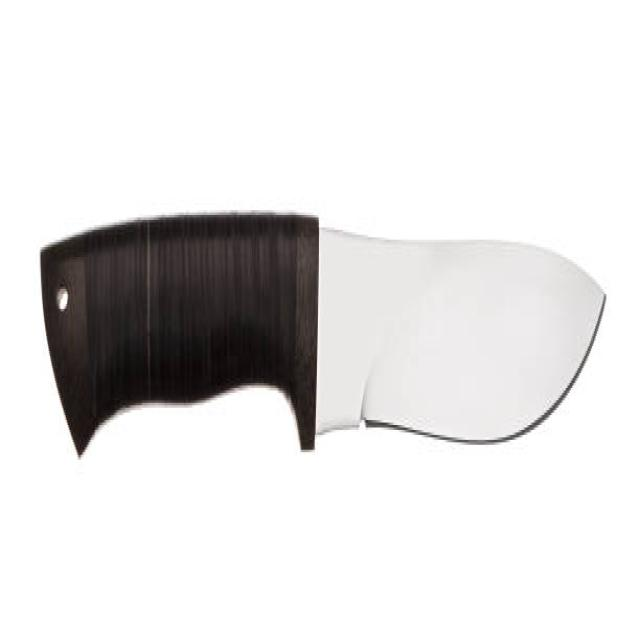knife: (40, 207, 614, 475)
